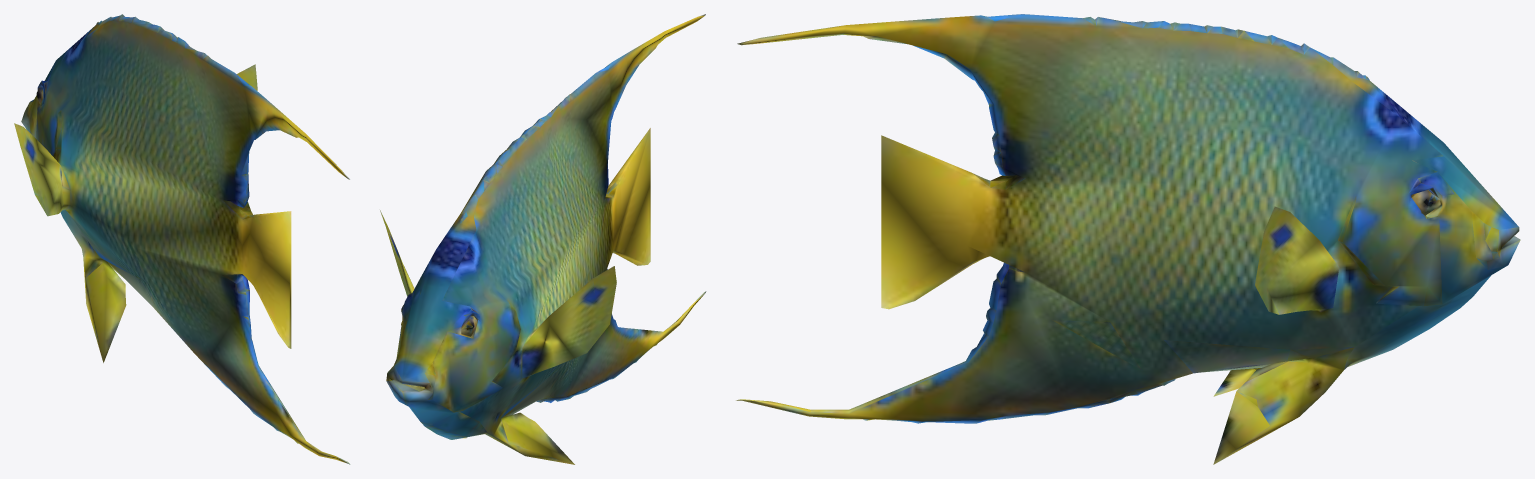
File: koningin_keizer-ver.glb
3 renders of one model, left to right at view 1: azimuth 30°, elevation 25°; view 2: azimuth 150°, elevation 25°; view 3: azimuth 270°, elevation 25°, orthographic. The views are drawn at different scales.
Parts seen in each view (by area): view 1: tripo_node_4d398780-edf8-4719-aec9-606fed8b5004; view 2: tripo_node_4d398780-edf8-4719-aec9-606fed8b5004; view 3: tripo_node_4d398780-edf8-4719-aec9-606fed8b5004.
Boxes of the visible parts, <box> form: tripo_node_4d398780-edf8-4719-aec9-606fed8b5004: <box>14,14,350,464</box>; tripo_node_4d398780-edf8-4719-aec9-606fed8b5004: <box>380,14,706,464</box>; tripo_node_4d398780-edf8-4719-aec9-606fed8b5004: <box>736,14,1520,464</box>.
Bounding box in the file's own units: 0.1898 × 0.25 × 0.4273.
Materials: 1 (1 with a texture image).
